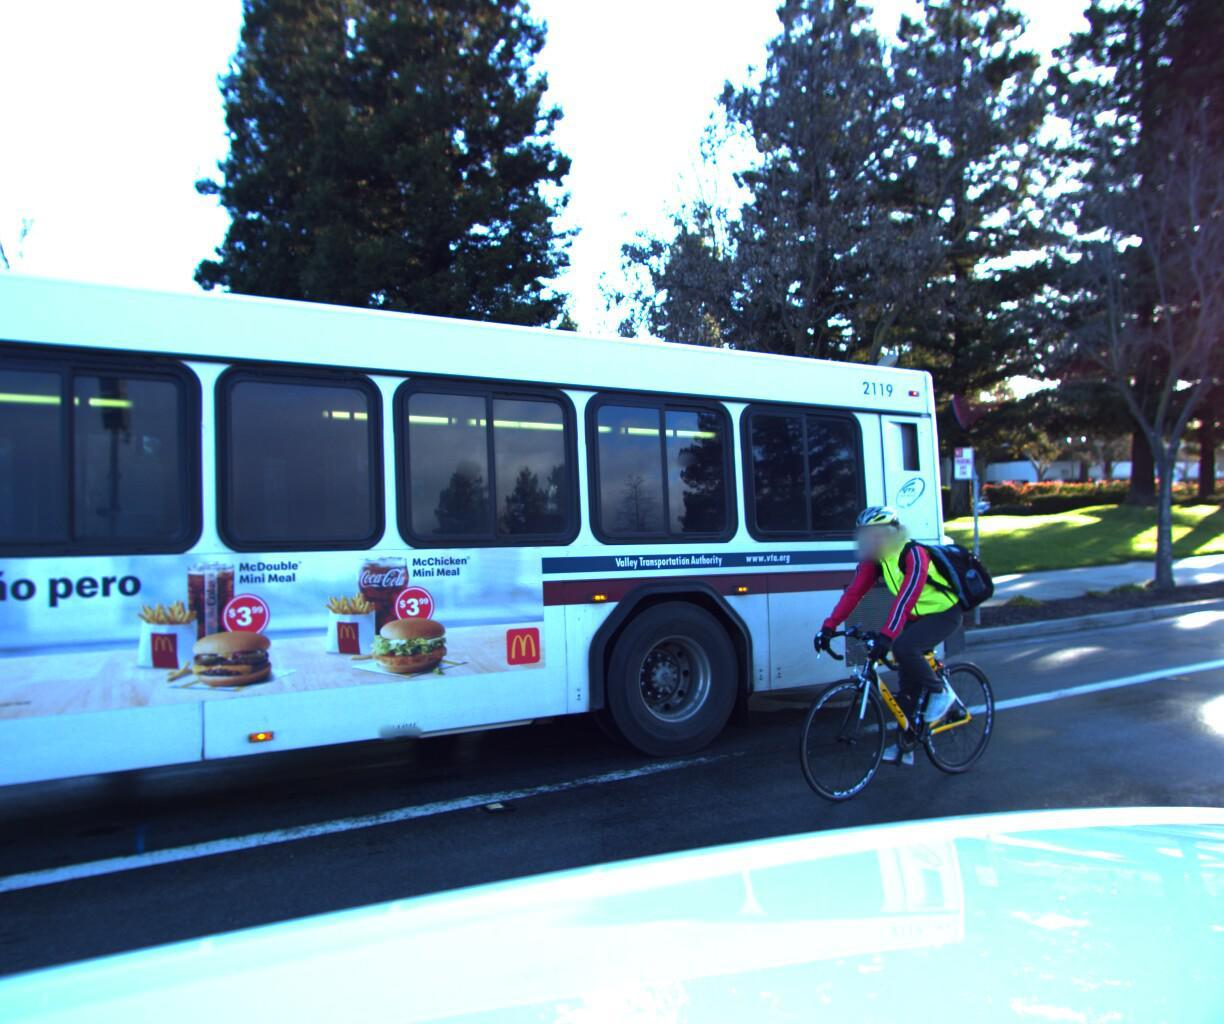bicycle: (742, 471, 1056, 840)
bus: (0, 0, 996, 1024)
